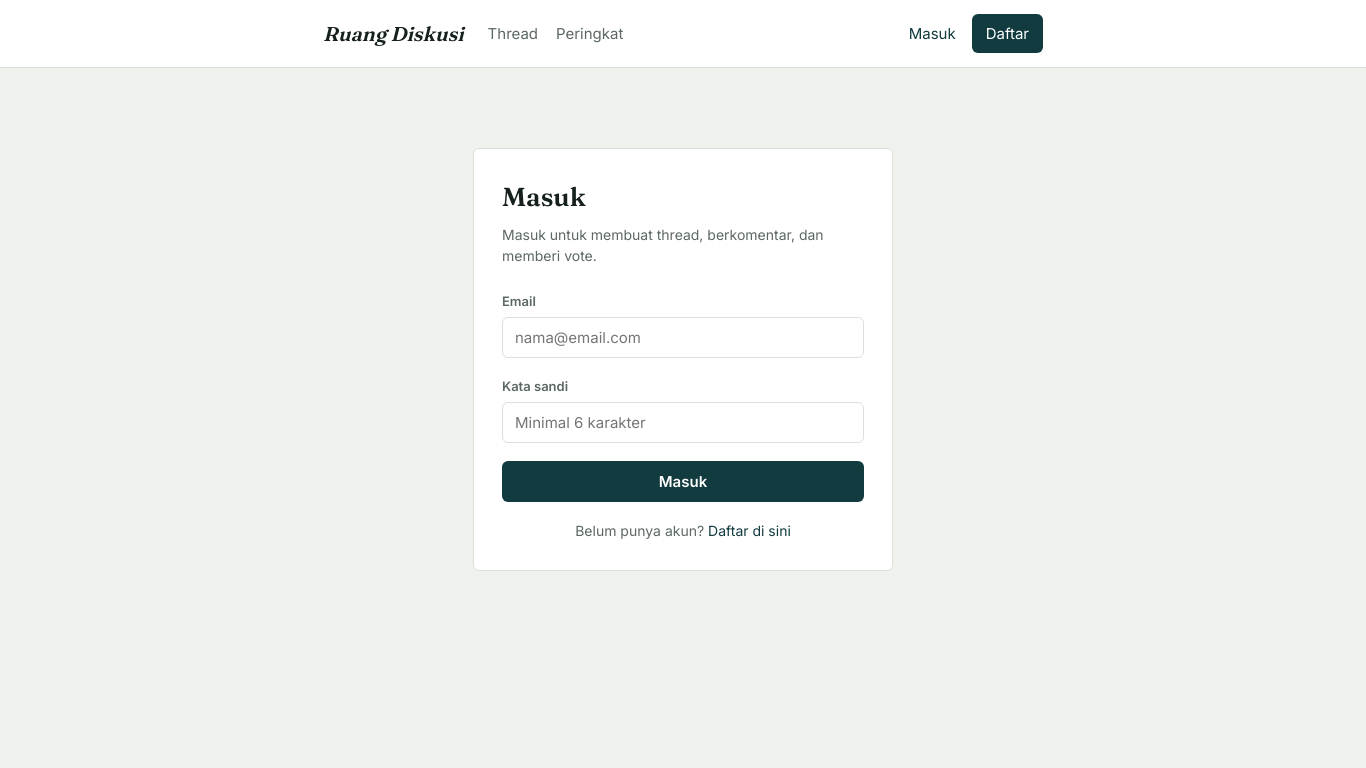
Login flow › should log the user in and redirect to the homepage on correct credentials
Type "e2e@mail.com" into the field with id "email".
click(683, 338); type("e2e@mail.com")  # box [502,317,864,358]
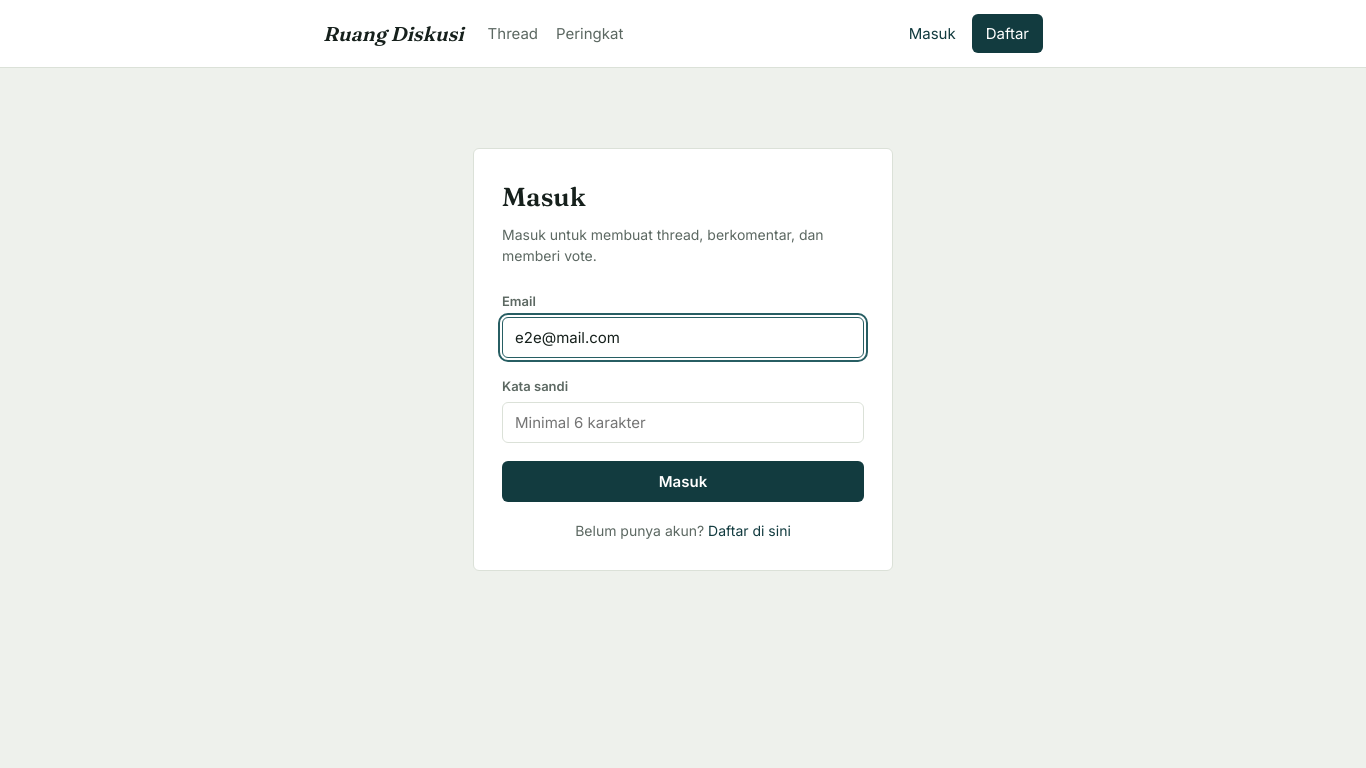
Type "rahasia123" into the password field labelled "Kata sandi".
click(683, 423); type("rahasia123")  # box [502,402,864,443]
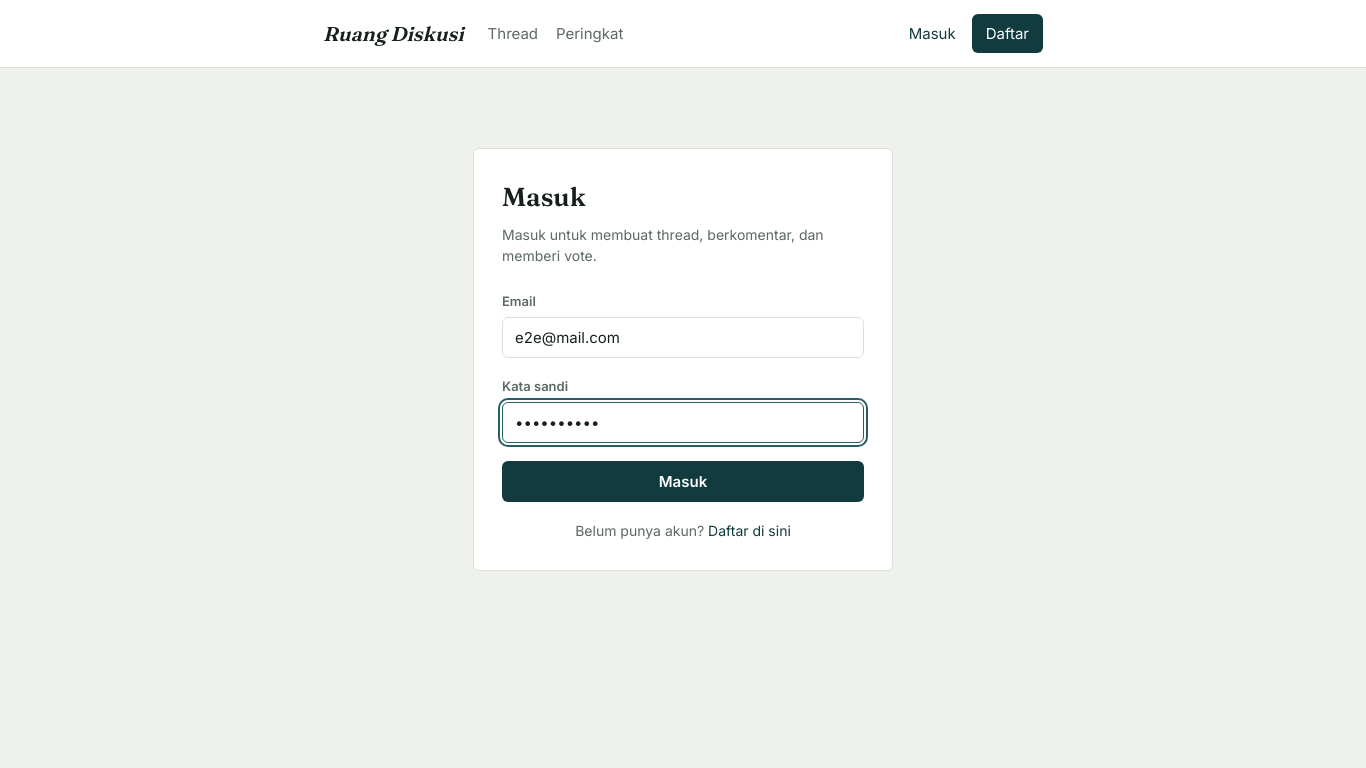
Click the submit button.
click(683, 482)  # box [502,461,864,502]
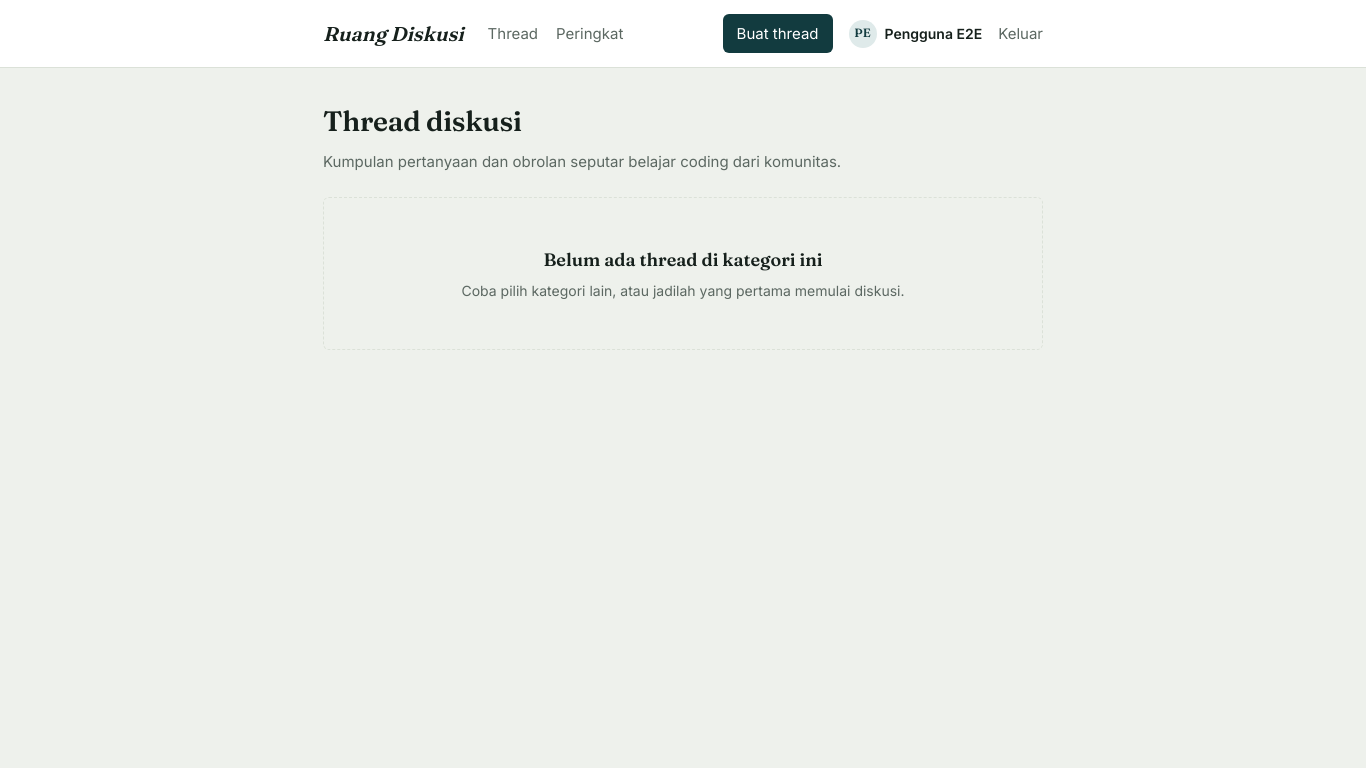
Check: the text "Pengguna E2E" is shown, box [884,23,982,44]
Check: the button "Keluar" is shown, box [998,24,1043,43]
